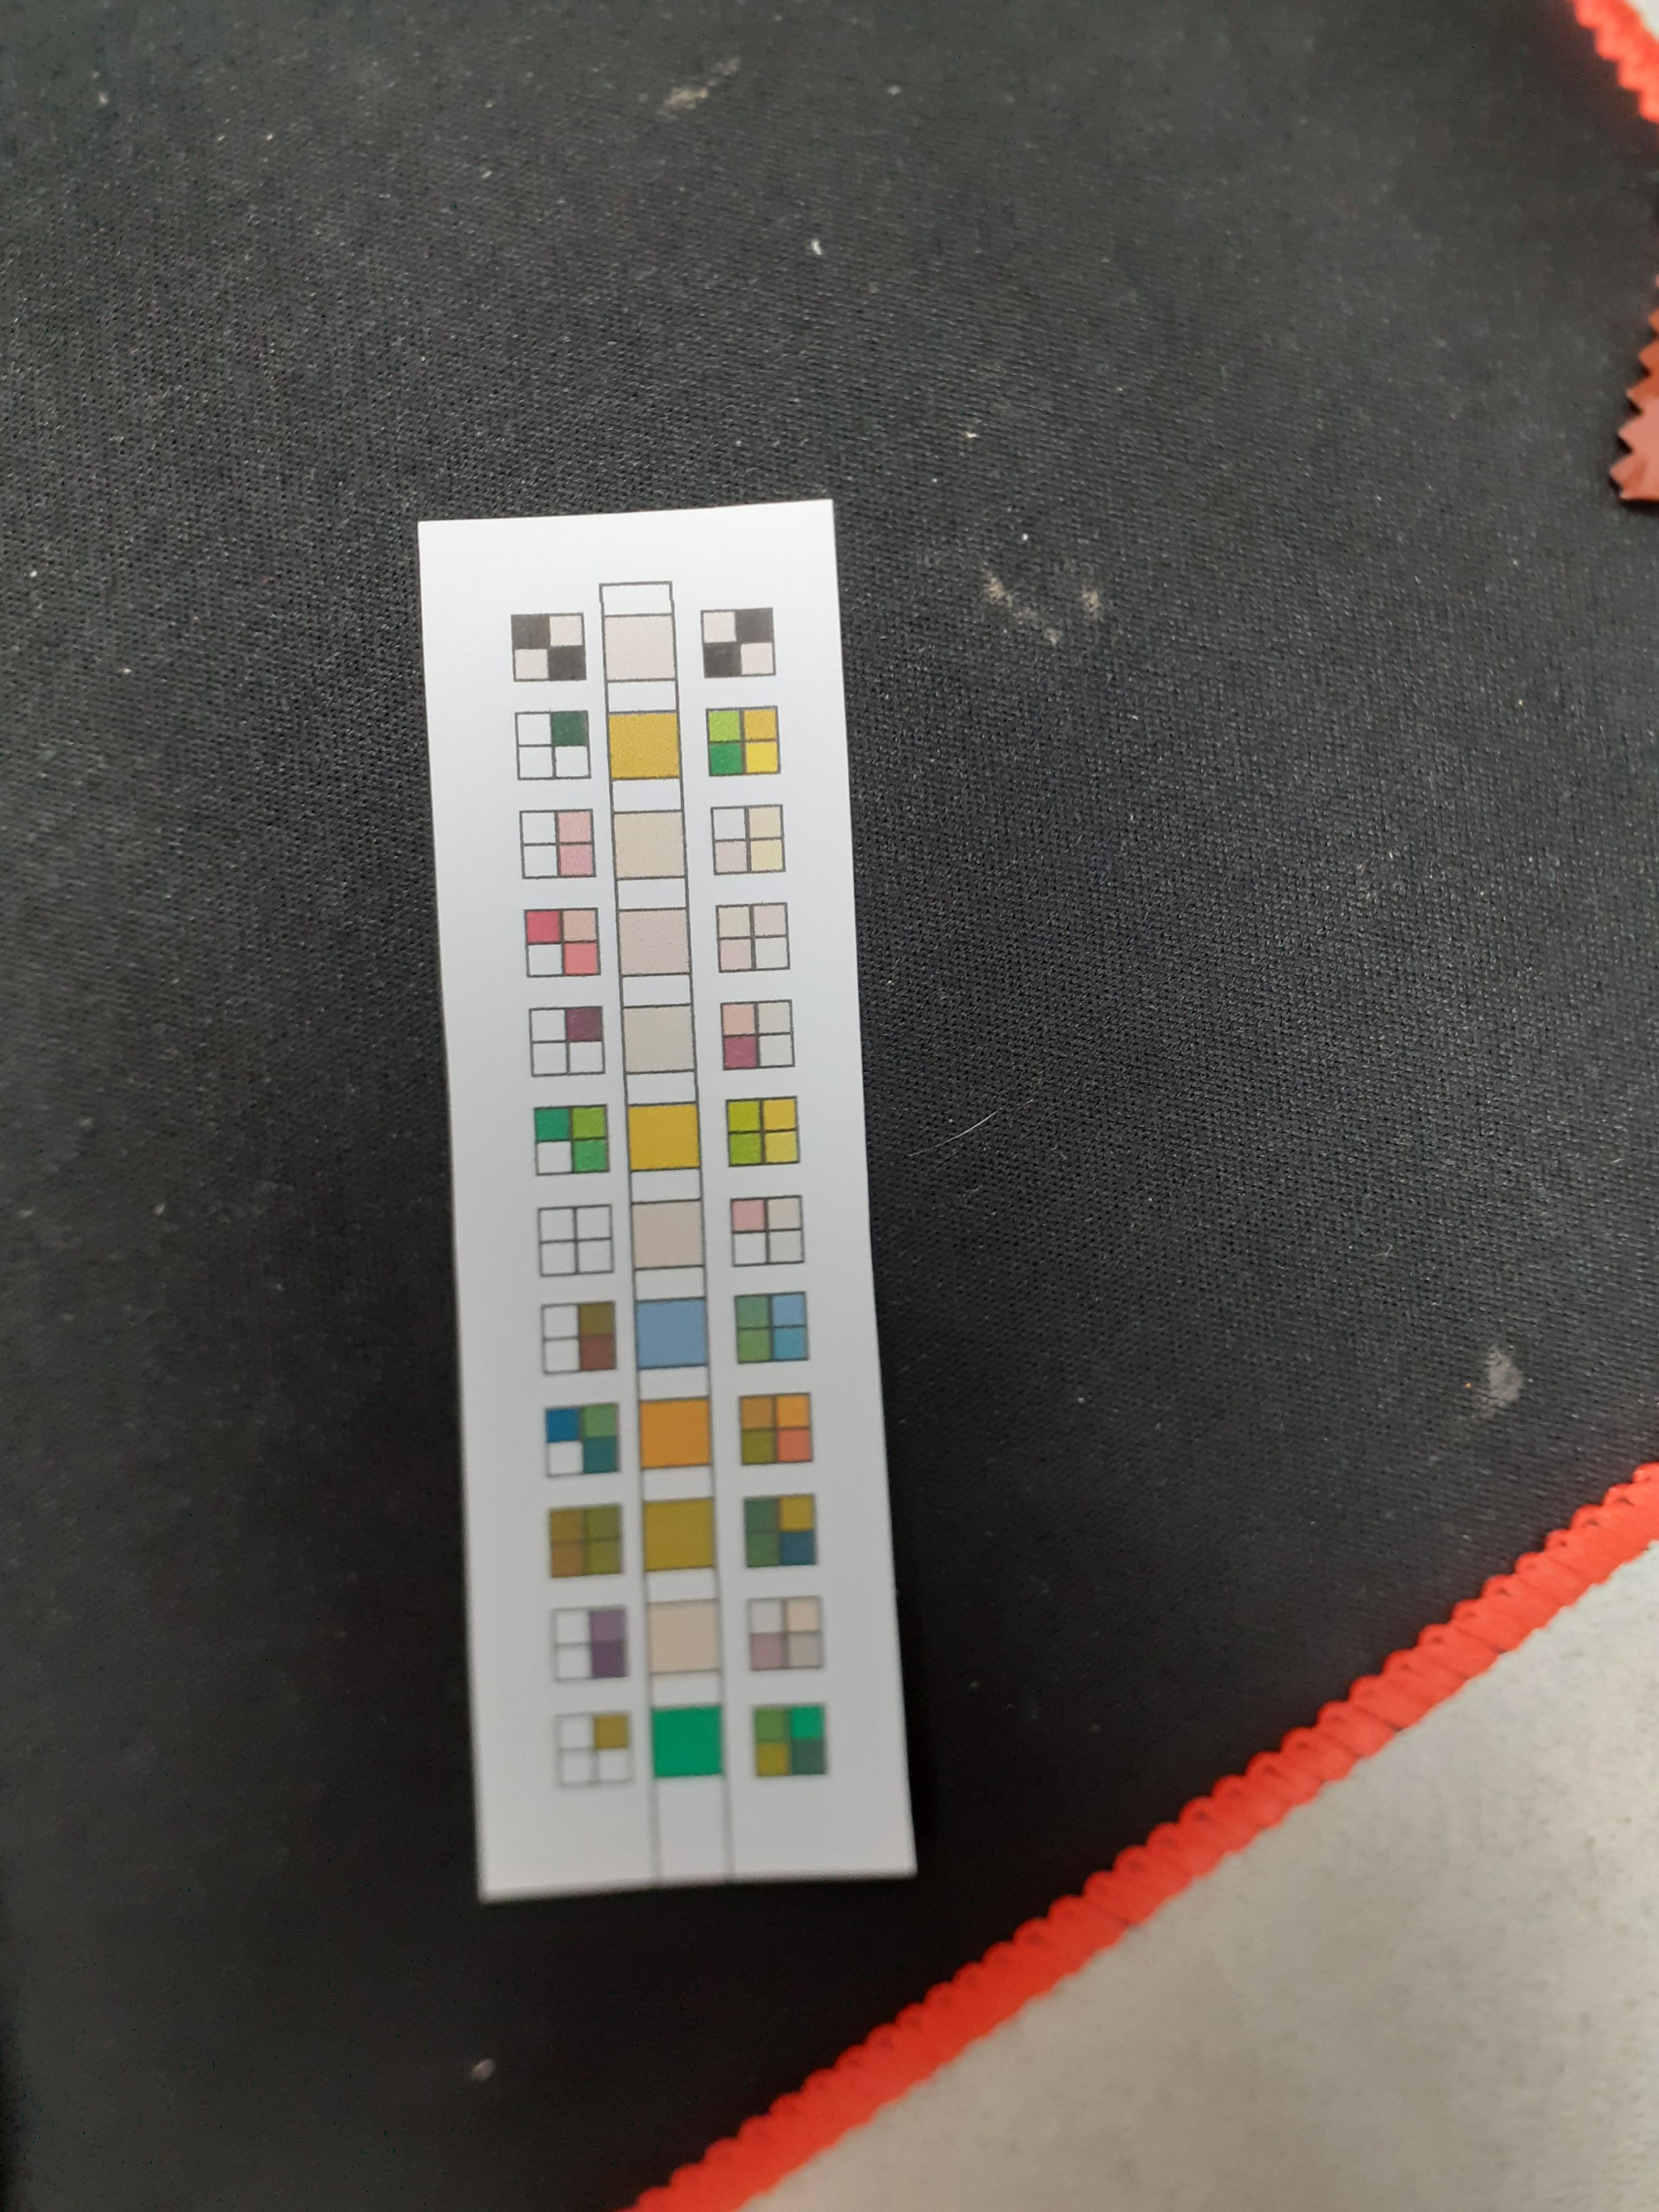tester: (423, 523, 910, 1879)
